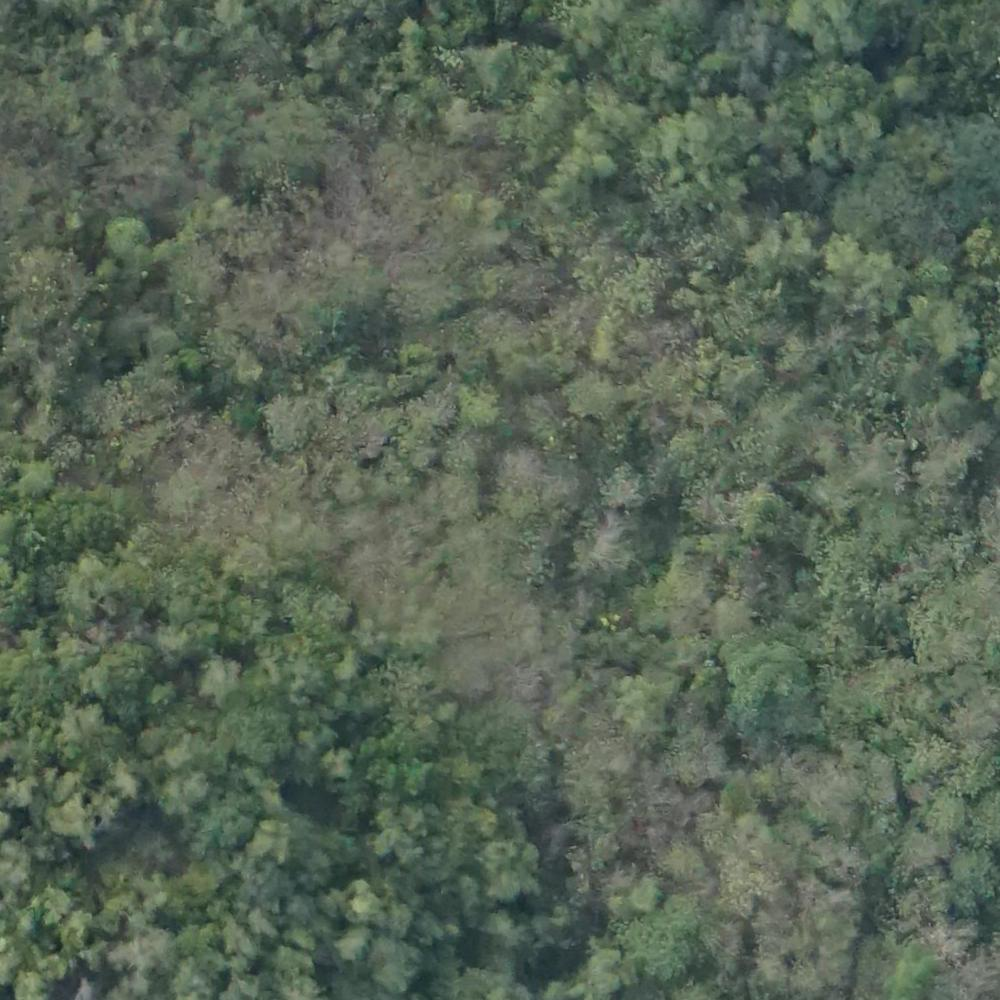tree: (490, 457, 586, 543), (723, 643, 810, 722), (626, 906, 709, 977), (576, 509, 651, 577), (386, 260, 456, 323), (366, 732, 432, 794), (874, 930, 939, 991), (370, 809, 441, 863), (226, 700, 292, 758), (659, 113, 727, 169), (562, 366, 623, 428), (261, 395, 325, 454), (945, 842, 1000, 910), (366, 935, 424, 999), (610, 676, 676, 730), (96, 211, 153, 273), (485, 838, 541, 898), (159, 600, 216, 657), (583, 313, 640, 368), (53, 704, 109, 758), (730, 487, 795, 532), (125, 931, 179, 983), (749, 216, 801, 268), (455, 384, 506, 436), (586, 946, 634, 1000), (200, 799, 254, 845), (715, 356, 763, 407), (249, 818, 298, 866), (155, 474, 203, 523), (405, 390, 456, 434), (443, 98, 493, 142), (924, 786, 971, 830), (833, 192, 877, 235), (196, 658, 237, 703), (348, 882, 387, 924), (960, 751, 1000, 791), (610, 473, 652, 511), (331, 926, 368, 967), (177, 348, 213, 385), (805, 86, 837, 119), (627, 879, 655, 910)
